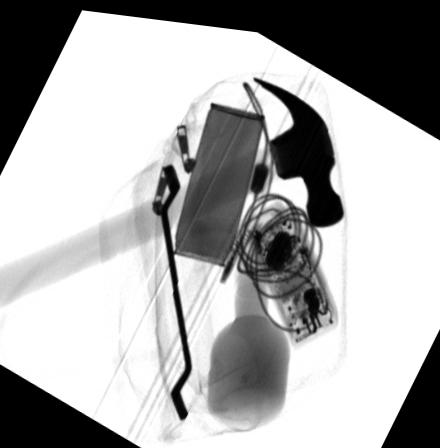Hammer: (0, 70, 344, 305)
Wrench: (160, 157, 193, 415)
